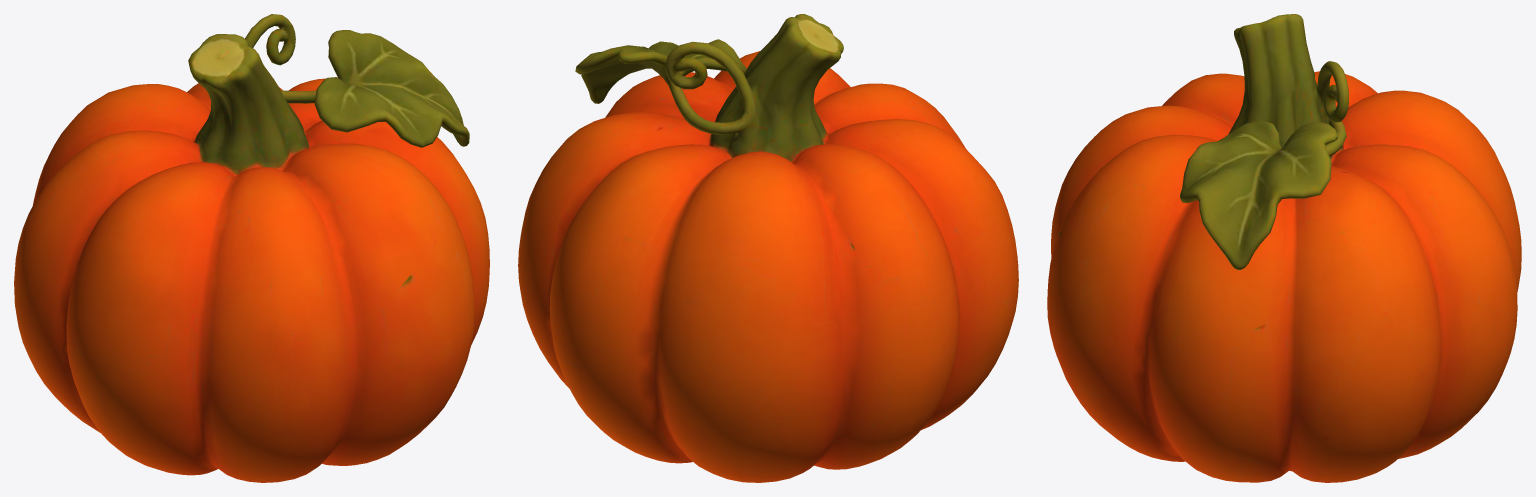
3 views of the same model, side by side, from view 1: azimuth 30°, elevation 25°; view 2: azimuth 150°, elevation 25°; view 3: azimuth 270°, elevation 25° (orthographic). The views are drawn at different scales.
Parts seen in each view (by area): view 1: pumpkin; view 2: pumpkin; view 3: pumpkin.
Boxes of the visible parts, left/top/right/bottom form: pumpkin: left=14, top=14, right=489, bottom=482; pumpkin: left=518, top=14, right=1018, bottom=482; pumpkin: left=1047, top=14, right=1521, bottom=482.
Bounding box in the file's own units: 0.3 × 0.2839 × 0.2997.
Materials: 1 (1 with a texture image).
